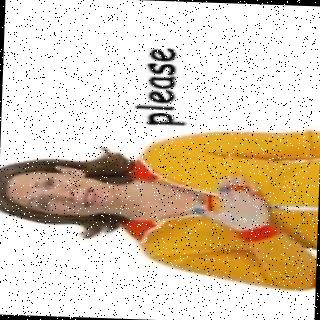Please: (187, 170, 276, 238)
